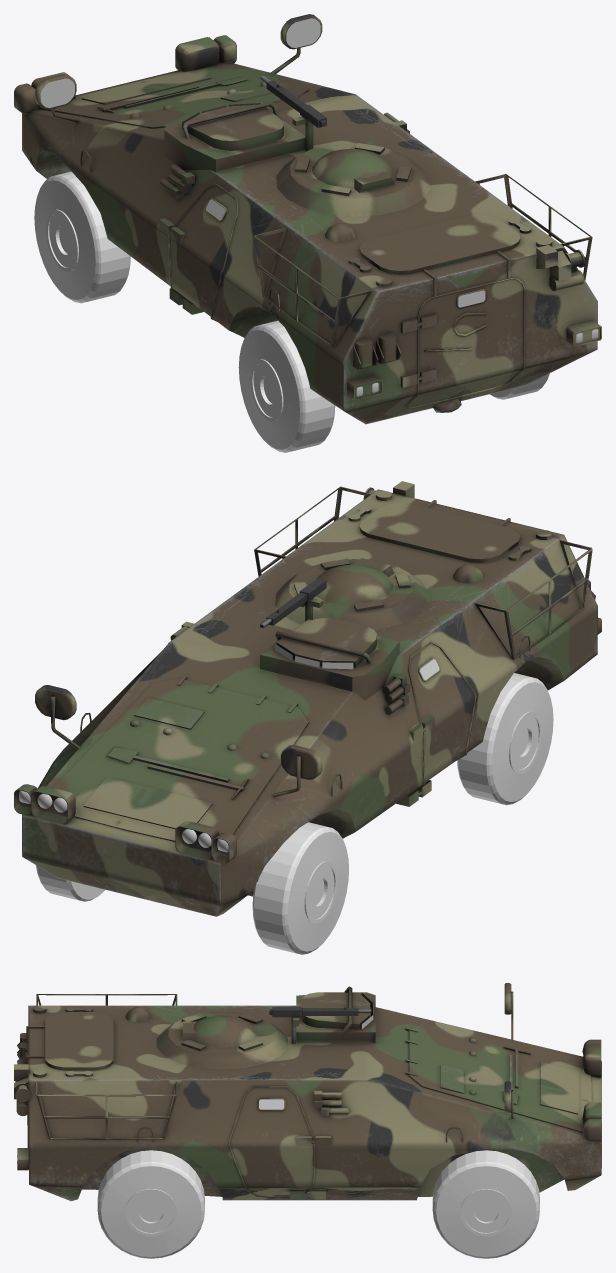
File: Alpha_Tank.fbx
3 renders of one model, top to bottom at view 1: azimuth 30°, elevation 25°; view 2: azimuth 150°, elevation 25°; view 3: azimuth 270°, elevation 25°, orthographic. The views are drawn at different scales.
Parts seen in each view (by area): view 1: btr4_camo.001, Tire, Tire.002, gun001; view 2: btr4_camo.001, Tire, Tire.002, gun001, Tire.001; view 3: btr4_camo.001, Tire.003, Tire.001, gun001.
Part boxes in pixels (x1,y1,x2,y2): btr4_camo.001: [14, 14, 601, 424]; Tire: [34, 171, 130, 303]; Tire.002: [238, 320, 335, 452]; gun001: [260, 75, 326, 151]; btr4_camo.001: [14, 481, 601, 916]; Tire: [252, 822, 348, 954]; Tire.002: [457, 673, 553, 805]; gun001: [260, 578, 326, 628]; Tire.001: [35, 865, 105, 901]; btr4_camo.001: [14, 983, 601, 1201]; Tire.003: [97, 1150, 204, 1258]; Tire.001: [432, 1150, 539, 1258]; gun001: [269, 1006, 371, 1043].
Size of the model in its own units: 234 by 194 by 511.
